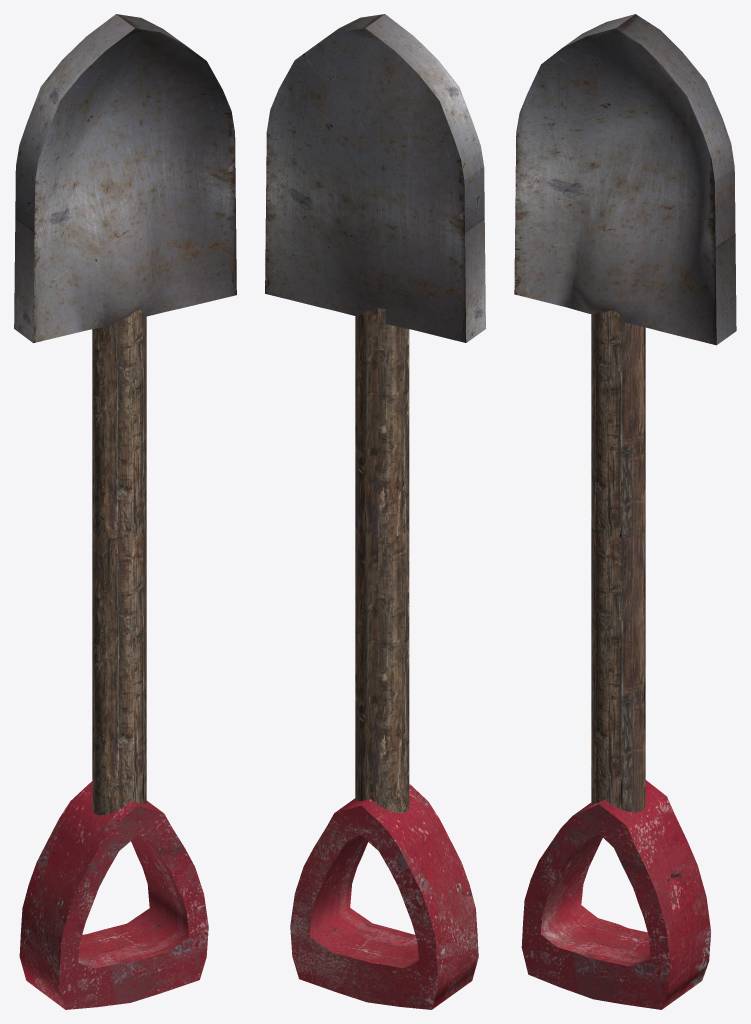
3 views of the same model, side by side, from view 1: azimuth 30°, elevation 25°; view 2: azimuth 150°, elevation 25°; view 3: azimuth 330°, elevation 25° (orthographic).
Visible parts, largest first — view 1: Blade, Handle, Rod; view 2: Blade, Handle, Rod; view 3: Blade, Handle, Rod.
Boxes of the visible parts, x1,y1,x2,y2 form: Blade: [14, 14, 236, 342]; Handle: [19, 781, 208, 1009]; Rod: [92, 308, 146, 815]; Blade: [265, 14, 485, 342]; Handle: [290, 784, 478, 1009]; Rod: [355, 308, 409, 813]; Blade: [514, 14, 736, 345]; Handle: [521, 780, 711, 1009]; Rod: [591, 309, 645, 812].
Size of the model in its own units: 2.52 by 11.45 by 0.9675.
Materials: 1 (1 with a texture image).
